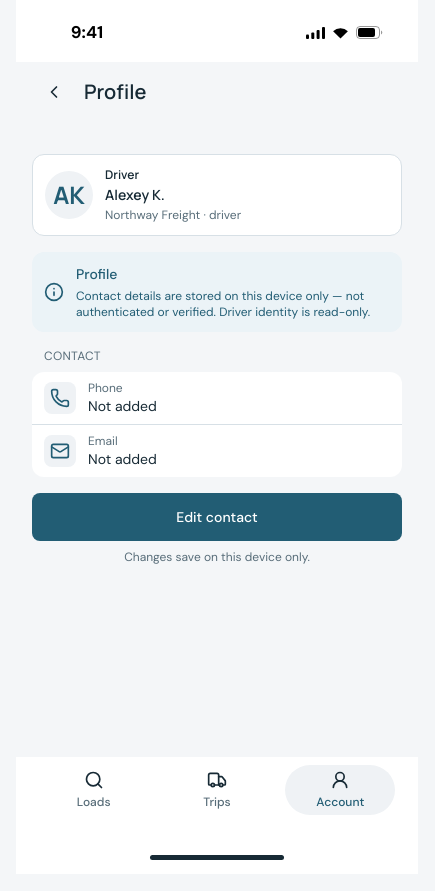
it: shows readonly prototype identity and profile navigation
Expected: the text "Alexey K." is shown, [105, 185, 165, 204]
Expected: the text "Driver identity is read-only" is shown, [76, 288, 370, 320]
Click the button "Edit contact": (217, 517) [32, 493, 402, 541]
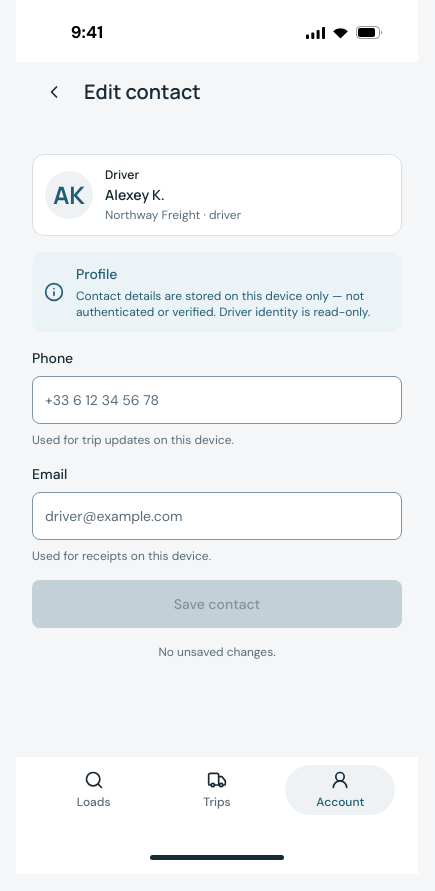
Now the field labelled "Phone" is shown, box [45, 377, 389, 423]
